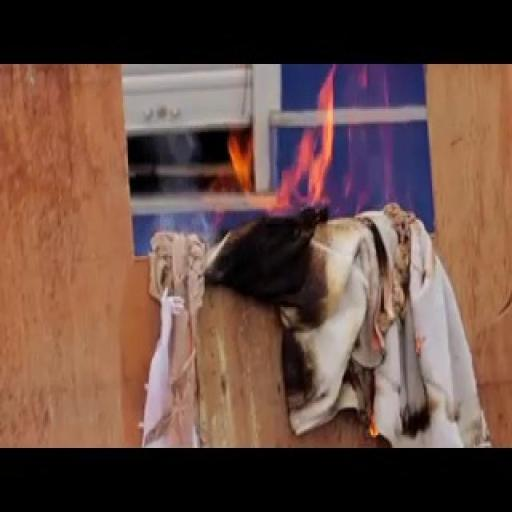smoke: (198, 66, 407, 239)
